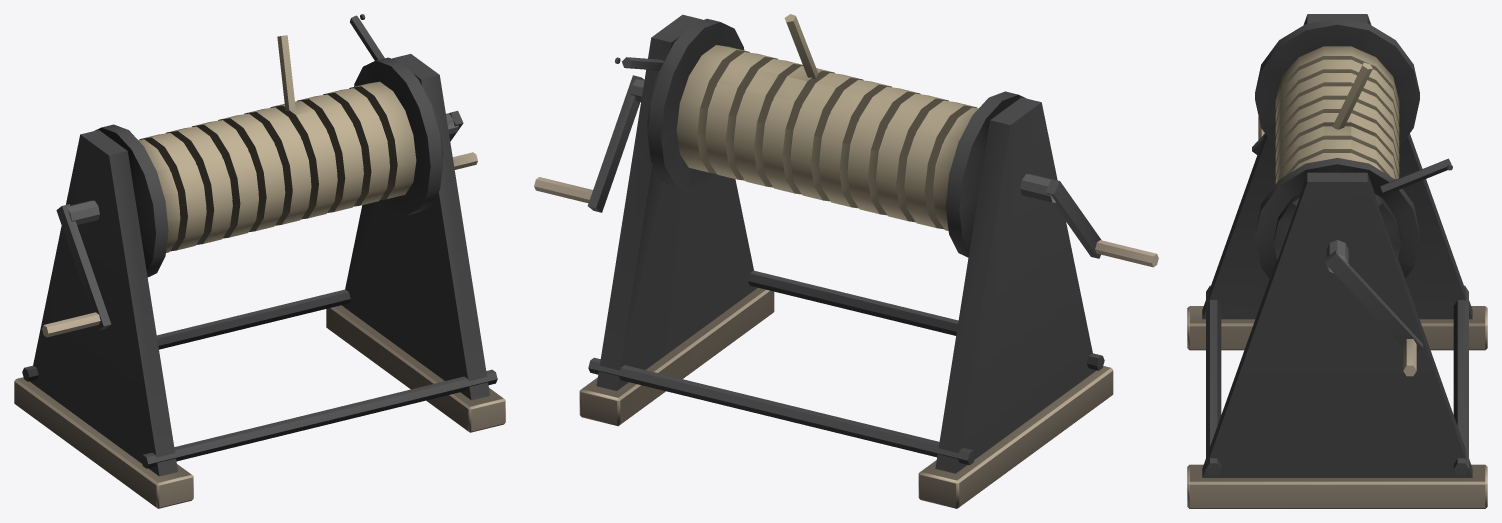
File: winch.glb
3 renders of one model, left to right at view 1: azimuth 30°, elevation 25°; view 2: azimuth 150°, elevation 25°; view 3: azimuth 270°, elevation 25°, orthographic. The views are drawn at different scales.
Visible parts, largest first — view 1: static; view 2: static; view 3: static.
Boxes of the visible parts, x1=… form: static: x1=14, y1=14, x2=505, y2=508; static: x1=534, y1=14, x2=1158, y2=508; static: x1=1187, y1=14, x2=1487, y2=508.
Size of the model in its own units: 1.6 by 1.11 by 0.8.
